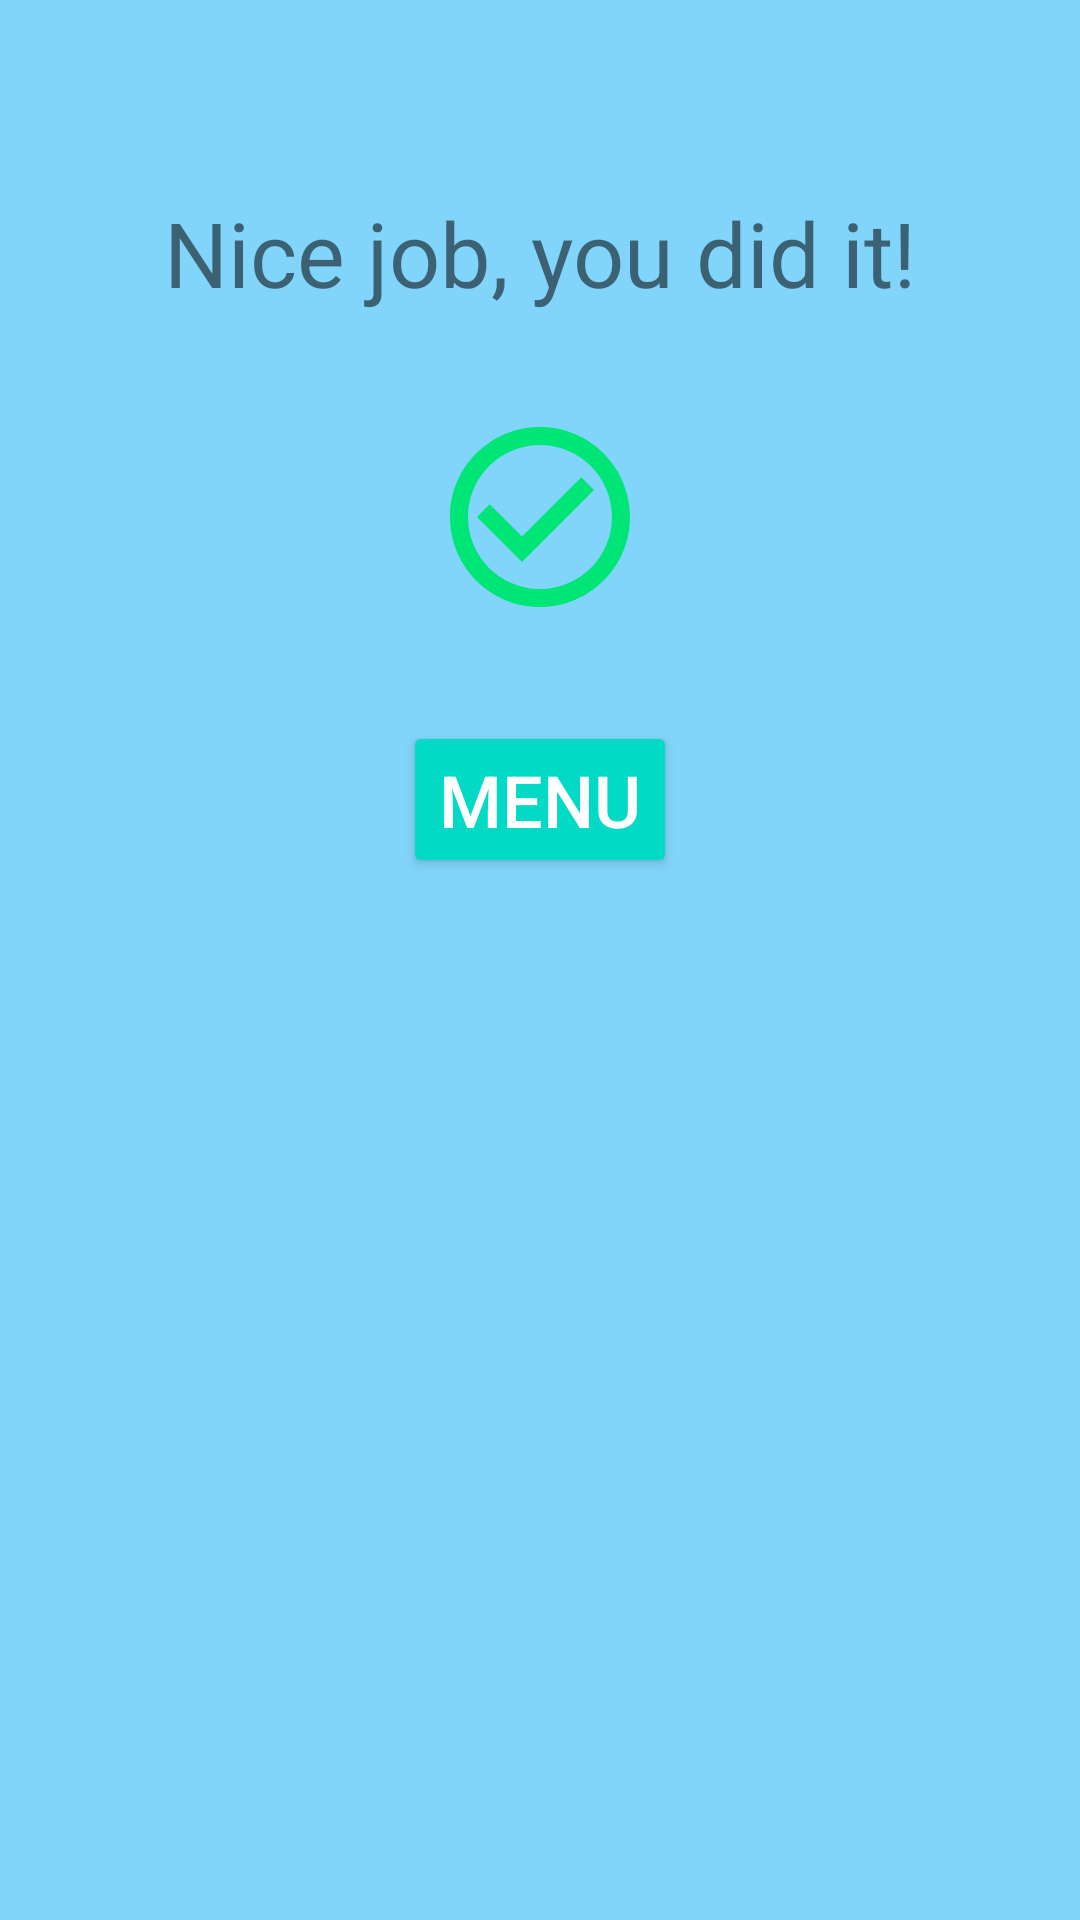

Locate icon controls on the screen. Image size 1080*1920, boxes as (x1, y1, x2, y2).
Check: (450, 427, 630, 607)
